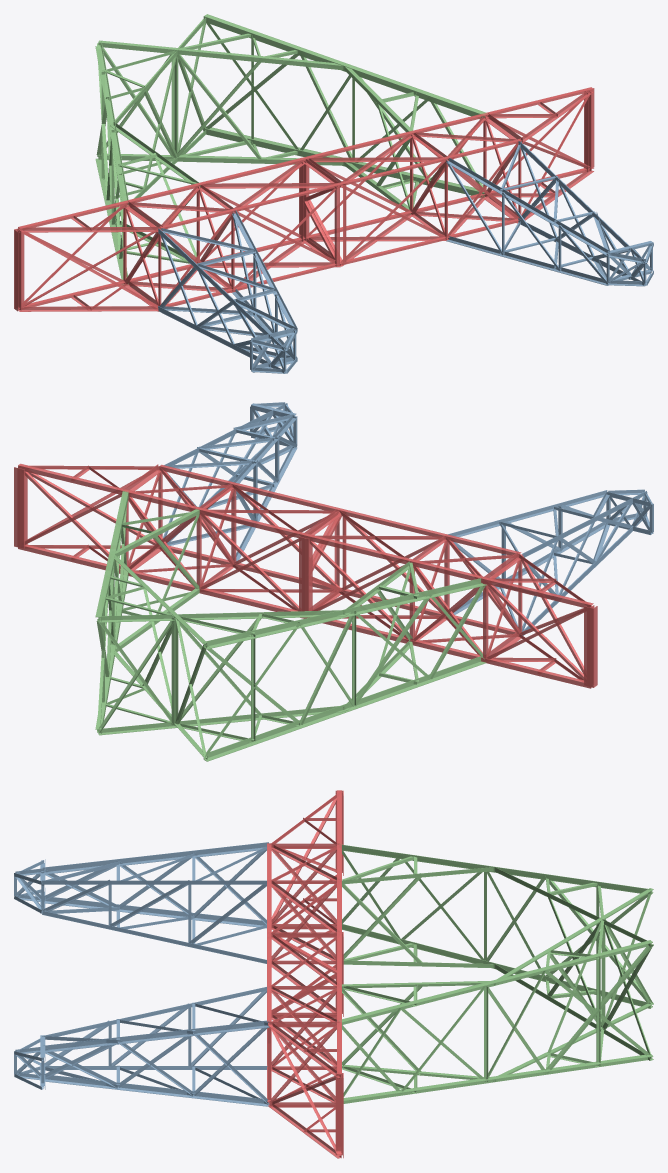
The model's file is complete-tower-head.glb.
3 renders of one model, top to bottom at view 1: azimuth 30°, elevation 25°; view 2: azimuth 150°, elevation 25°; view 3: azimuth 270°, elevation 25°, orthographic.
Parts seen in each view (by area): view 1: M2-塔头2（已撤销诊断占位）, M3-塔头3, M1-塔头1; view 2: M2-塔头2（已撤销诊断占位）, M3-塔头3, M1-塔头1; view 3: M3-塔头3, M1-塔头1, M2-塔头2（已撤销诊断占位）.
Part boxes in pixels (box(x1,y1,x2,y2)): M2-塔头2（已撤销诊断占位）: box(14, 87, 594, 311); M3-塔头3: box(95, 14, 486, 284); M1-塔头1: box(158, 141, 653, 373); M2-塔头2（已撤销诊断占位）: box(14, 463, 597, 688); M3-塔头3: box(95, 491, 486, 761); M1-塔头1: box(163, 402, 653, 635); M3-塔头3: box(338, 844, 653, 1103); M1-塔头1: box(14, 842, 269, 1106); M2-塔头2（已撤销诊断占位）: box(267, 790, 343, 1158).
Size of the model in its own units: 8700 by 1690 by 8196.
